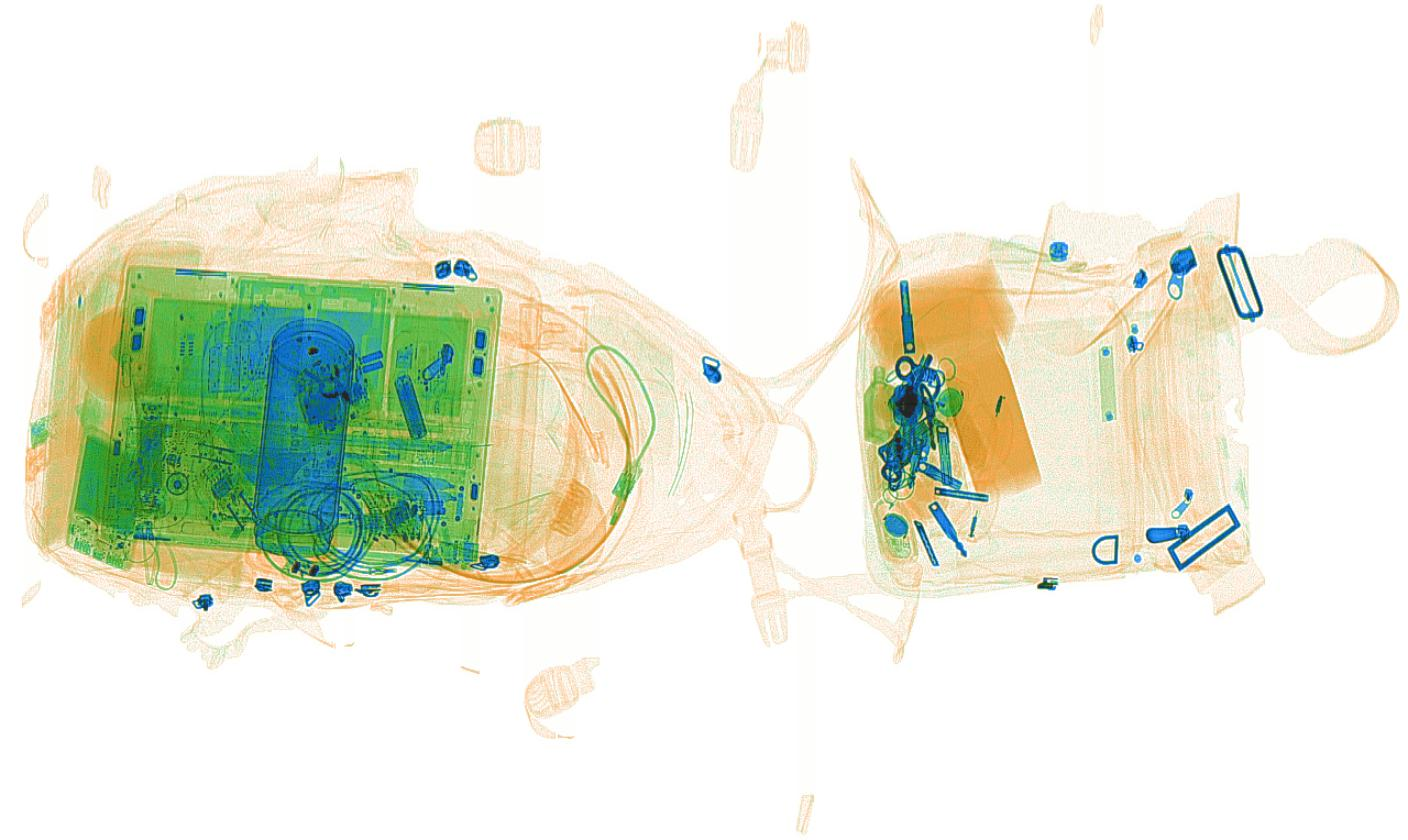battery: (391, 369, 427, 440), (133, 424, 161, 494)
